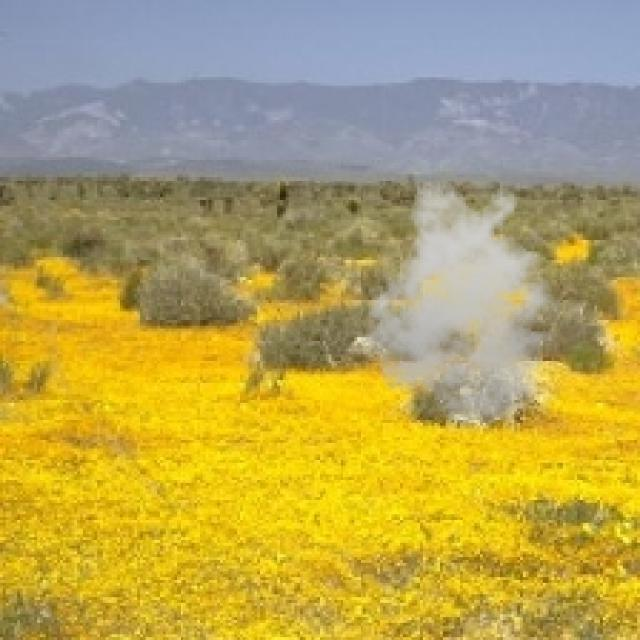Smoke: (354, 177, 577, 426)
